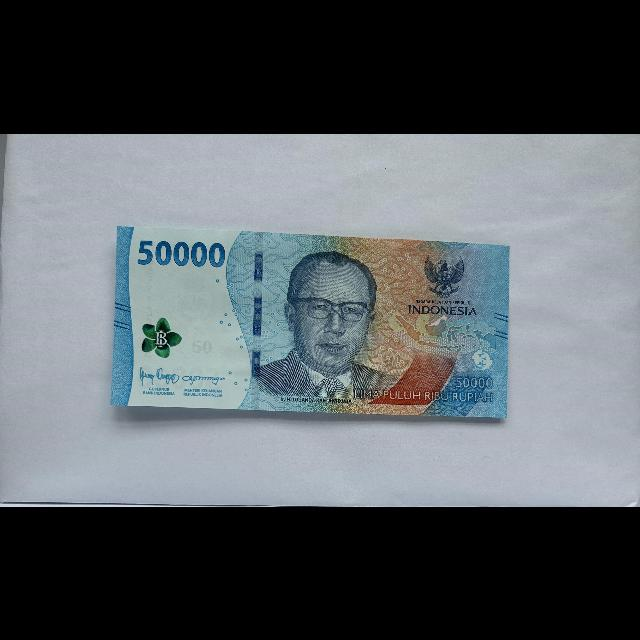Asli-50k: (104, 220, 518, 428)
Tinta-Asli-50k: (142, 314, 183, 358)
